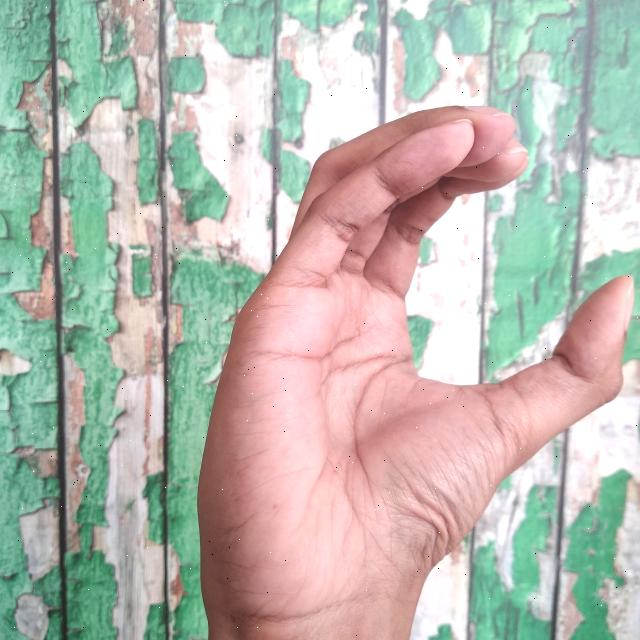C: (183, 87, 640, 640)
